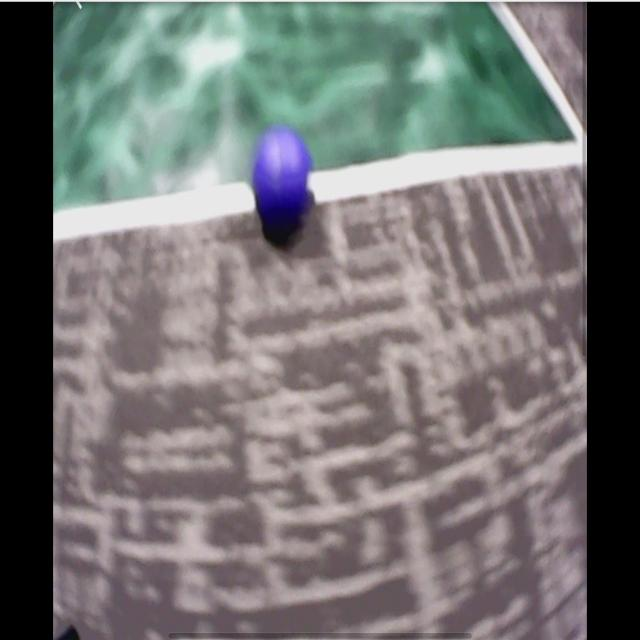ball: (255, 129, 310, 216)
